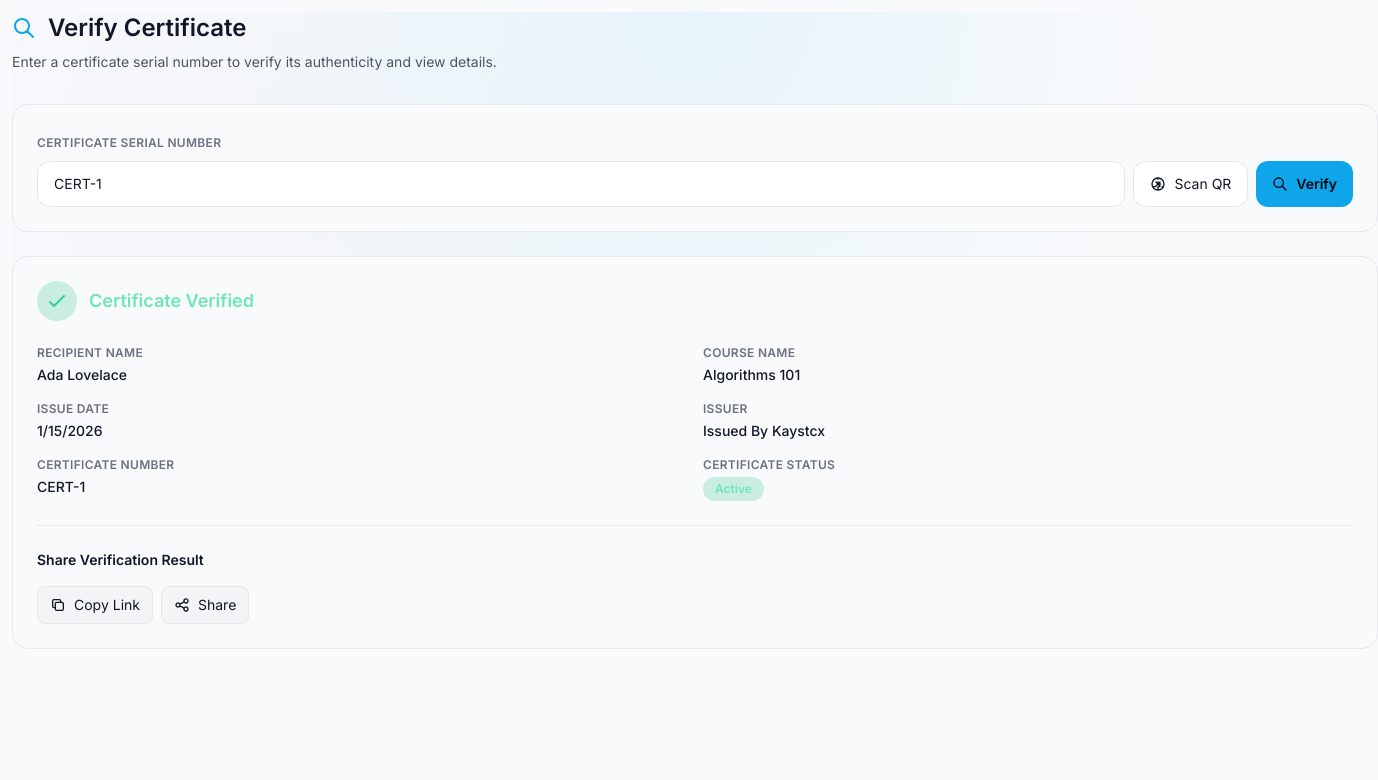
Test case: VerifyCertificate share section › shows a single toast when Copy Link is clicked (no window.alert)
Expected: the button "Share" is shown, [161,586,249,624]
What coordinates should you click on to do the following:
click the button "Copy Link"
I would click on:
 (95, 605)
Its box is [37,586,153,624].
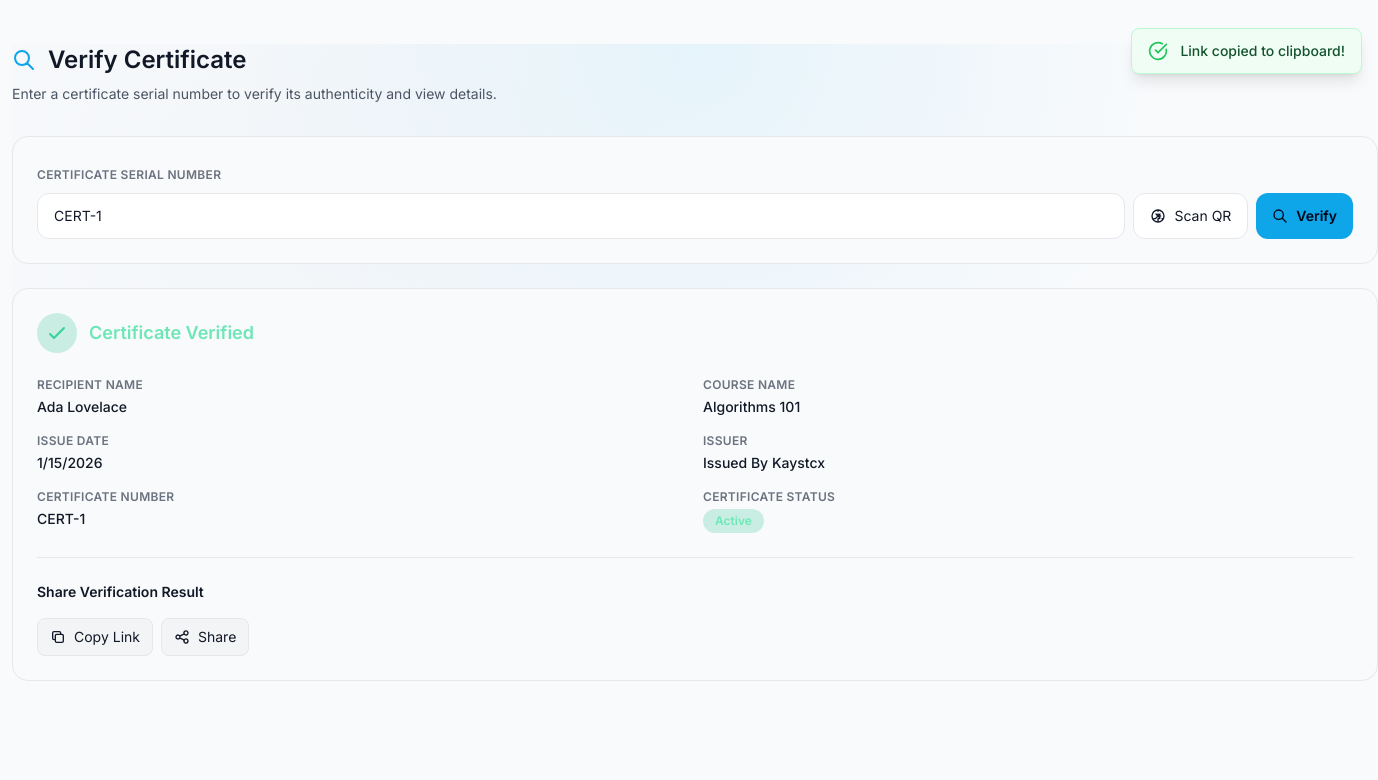
Expected: the text "Link copied to clipboard!" is shown once, [1180,41,1345,61]
